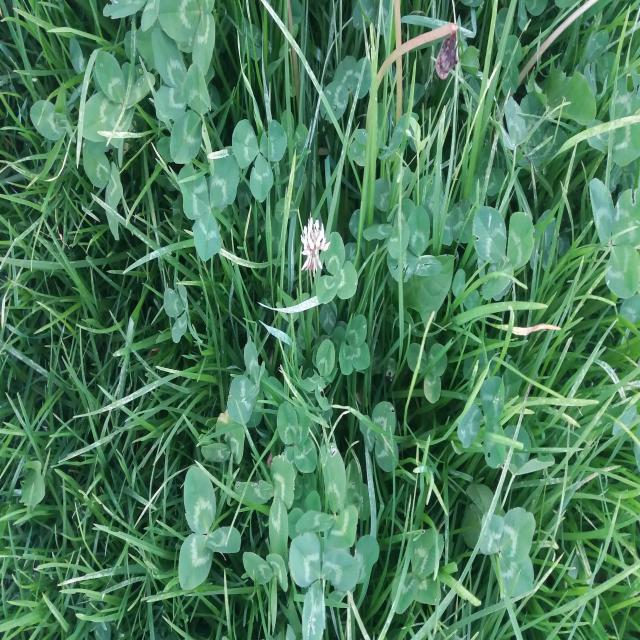Four Leaf Clover: (83, 50, 155, 148), (277, 400, 317, 476)
